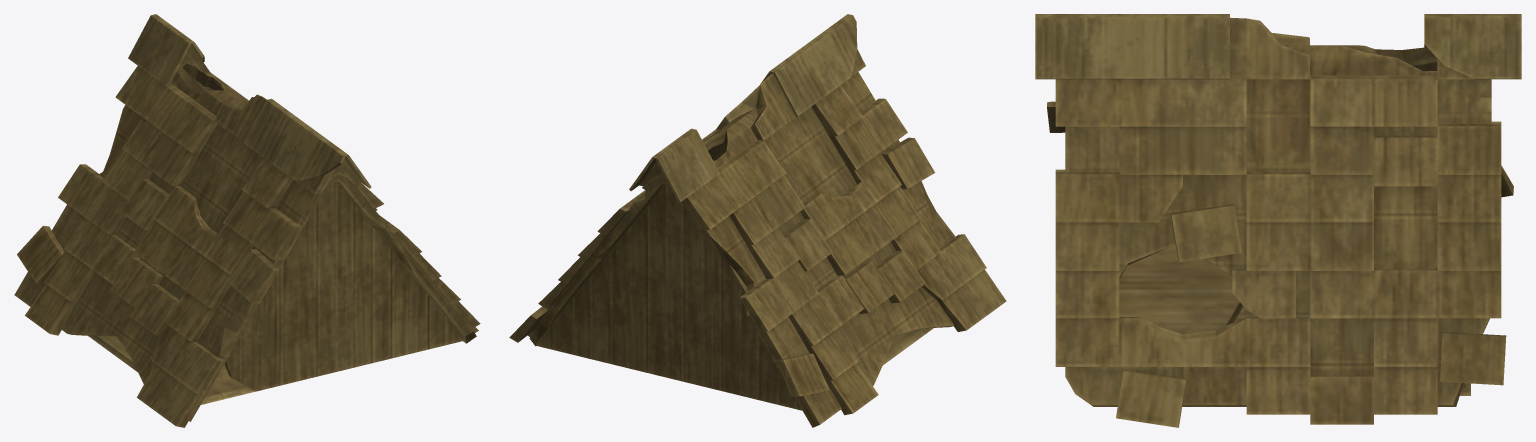
Rendered from sb_obj_outdoor029_house03_roof_a_ruins.fbx.
3 renders of one model, left to right at view 1: azimuth 30°, elevation 25°; view 2: azimuth 150°, elevation 25°; view 3: azimuth 270°, elevation 25°, orthographic. The views are drawn at different scales.
Parts seen in each view (by area): view 1: sb_obj_outdoor029_house03_roof_a_ruins; view 2: sb_obj_outdoor029_house03_roof_a_ruins; view 3: sb_obj_outdoor029_house03_roof_a_ruins.
Boxes of the visible parts, box(x1,y1,x2,y2) form: sb_obj_outdoor029_house03_roof_a_ruins: box(14, 14, 480, 427); sb_obj_outdoor029_house03_roof_a_ruins: box(509, 14, 1006, 427); sb_obj_outdoor029_house03_roof_a_ruins: box(1035, 14, 1521, 427).
Bounding box in the file's own units: 3.56 × 2.56 × 3.6.
